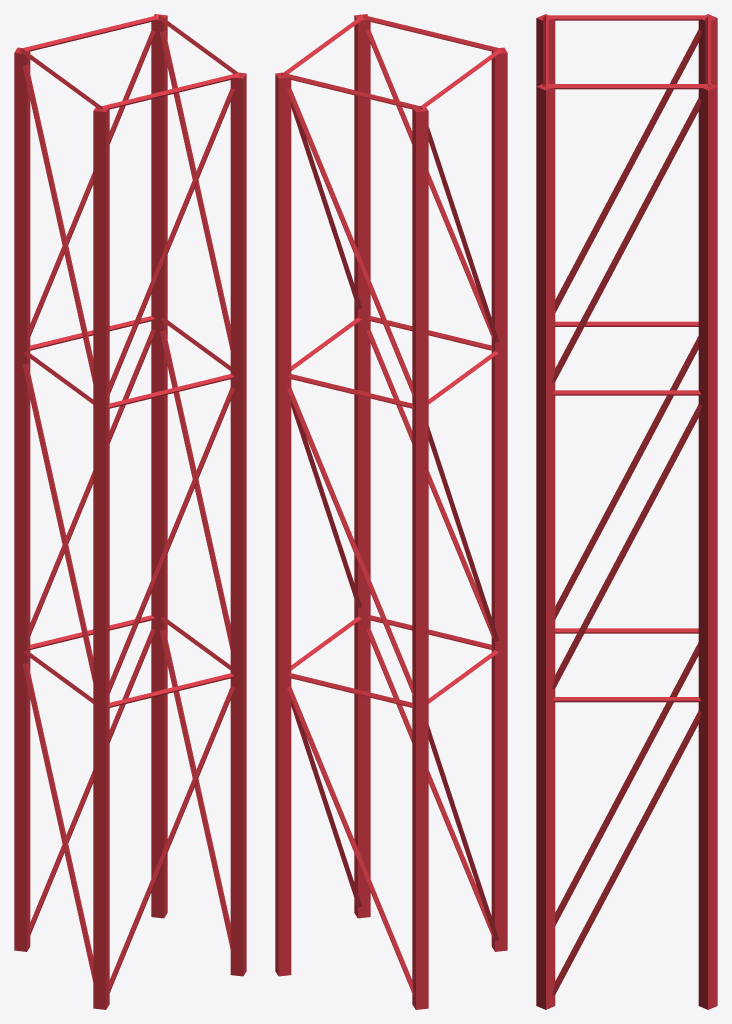
The model's file is mid-prebuilt_far.fbx.
3 renders of one model, left to right at view 1: azimuth 30°, elevation 25°; view 2: azimuth 150°, elevation 25°; view 3: azimuth 270°, elevation 25°, orthographic. The views are drawn at different scales.
Parts seen in each view (by area): view 1: landmark-great_tower/0/mid-prebuilt_far; view 2: landmark-great_tower/0/mid-prebuilt_far; view 3: landmark-great_tower/0/mid-prebuilt_far.
Boxes of the visible parts, <box> form: landmark-great_tower/0/mid-prebuilt_far: <box>14,14,246,1009</box>; landmark-great_tower/0/mid-prebuilt_far: <box>275,14,507,1009</box>; landmark-great_tower/0/mid-prebuilt_far: <box>536,14,717,1009</box>.
Size of the model in its own units: 13.4 by 75.32 by 13.4.
